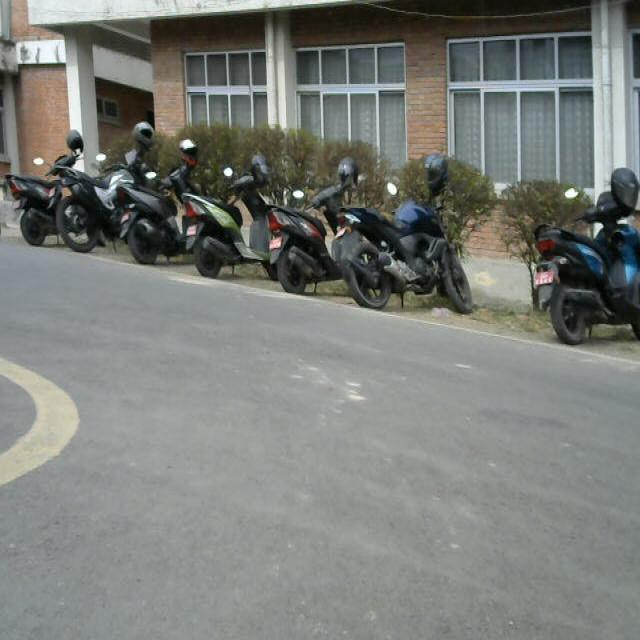Bike: (0, 128, 640, 330)
Buildings: (29, 0, 639, 153)
Road: (1, 292, 640, 640)
